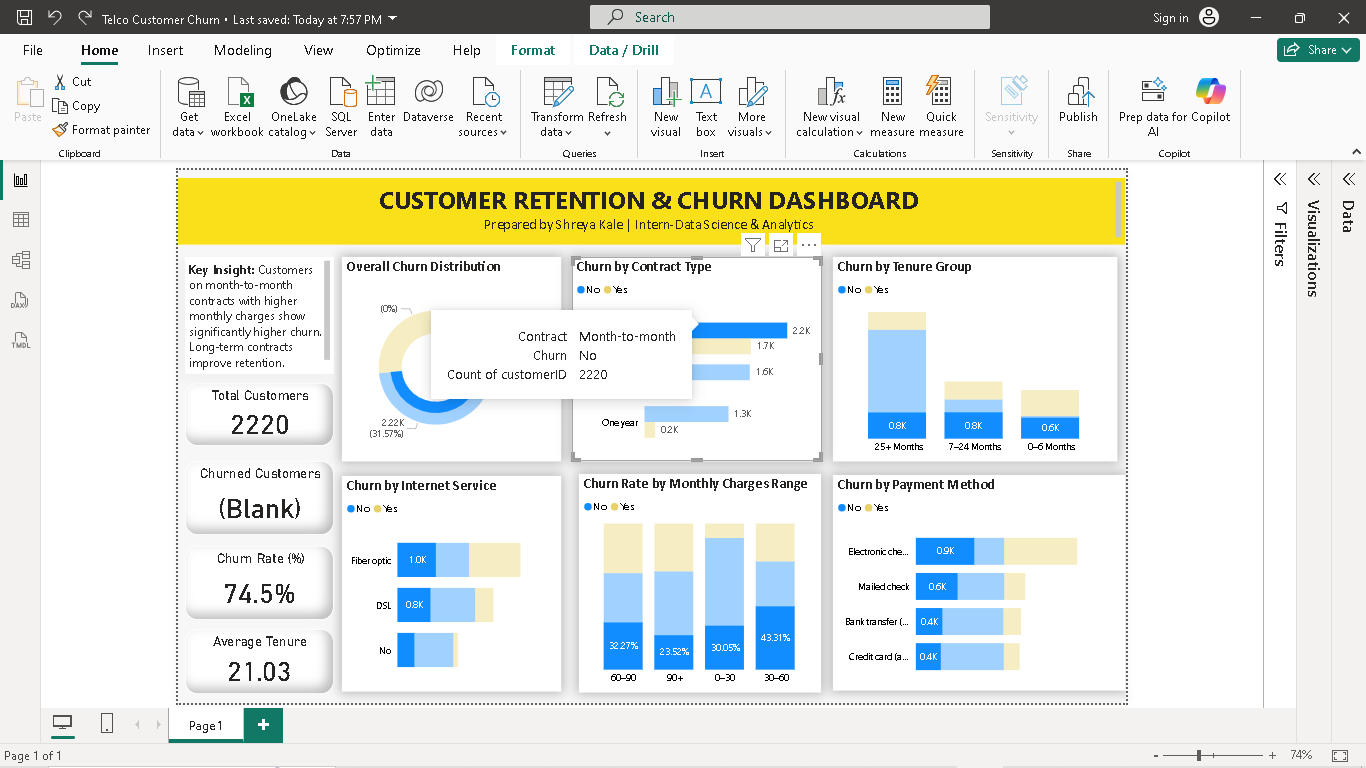

This screenshot's page, from the dashboard's own definition file:
{"tool":"powerbi","page":{"name":"Page 1","canvas":[1280,720],"ordinal":0},"visuals":[{"type":"textbox","box":[0,11.4,1280,90],"z":0},{"type":"card","title":"Total Customers","fields":{"Values":["CountNonNull(Telco-Customer-Churn.customerID)"]},"box":[9.5,287.8,201.4,85.1],"z":1000},{"type":"card","title":"Churned Customers","fields":{"Values":["CountNonNull(Telco-Customer-Churn.customerID)"]},"box":[9.5,393.2,201.4,100],"z":2000},{"type":"card","title":"Average Tenure","fields":{"Values":["Avg(Telco-Customer-Churn.tenure)"]},"box":[9.5,620.3,201.4,87.8],"z":3000},{"type":"donutChart","title":"Overall Churn Distribution","fields":{"Category":["Telco-Customer-Churn.Churn"],"Y":["CountNonNull(Telco-Customer-Churn.customerID)"]},"box":[221.4,117.1,295.7,275.7],"z":4000},{"type":"barChart","title":"Churn by Internet Service","fields":{"Category":["Telco-Customer-Churn.InternetService"],"Y":["CountNonNull(Telco-Customer-Churn.customerID)"],"Series":["Telco-Customer-Churn.Churn"]},"box":[221.4,412.9,295.7,291.4],"z":5000},{"type":"clusteredBarChart","title":"Churn by Contract Type","fields":{"Category":["Telco-Customer-Churn.Contract"],"Y":["CountNonNull(Telco-Customer-Churn.customerID)"],"Series":["Telco-Customer-Churn.Churn"]},"box":[532.9,117.1,337.1,275.7],"z":6000},{"type":"barChart","title":"Churn by Payment Method","fields":{"Category":["Telco-Customer-Churn.PaymentMethod"],"Y":["CountNonNull(Telco-Customer-Churn.customerID)"],"Series":["Telco-Customer-Churn.Churn"]},"box":[885.1,412.2,394.6,290.5],"z":7000},{"type":"columnChart","title":"Churn by Tenure Group","fields":{"Category":["Telco-Customer-Churn.Tenure Group"],"Y":["CountNonNull(Telco-Customer-Churn.customerID)"],"Series":["Telco-Customer-Churn.Churn"]},"box":[885.7,117.1,384.3,275.7],"z":8000},{"type":"card","title":"Churn Rate (%)","fields":{"Values":["Telco-Customer-Churn.Churn Rate %"]},"box":[9.5,508.1,201.4,100],"z":9000},{"type":"hundredPercentStackedColumnChart","title":"Churn Rate by Monthly Charges Range","fields":{"Y":["CountNonNull(Telco-Customer-Churn.customerID)"],"Series":["Telco-Customer-Churn.Churn"],"Category":["Telco-Customer-Churn.MonthlyCharges Group"]},"box":[541.9,410.8,327,294.6],"z":10000},{"type":"textbox","box":[9.5,117.6,201.4,158.1],"z":11000}]}

Visuals, with their boxes on the page's 1280x720 design canvas (x1, y1, x2, y2). These are canvas units, not pixel positions in the 1366x768 screenshot, which may show the page scaled, cropped or inside an application window:
textbox: select_region(0, 11, 1280, 101)
"Total Customers" card: select_region(10, 288, 211, 373)
"Churned Customers" card: select_region(10, 393, 211, 493)
"Average Tenure" card: select_region(10, 620, 211, 708)
"Overall Churn Distribution" donutChart: select_region(221, 117, 517, 393)
"Churn by Internet Service" barChart: select_region(221, 413, 517, 704)
"Churn by Contract Type" clusteredBarChart: select_region(533, 117, 870, 393)
"Churn by Payment Method" barChart: select_region(885, 412, 1280, 703)
"Churn by Tenure Group" columnChart: select_region(886, 117, 1270, 393)
"Churn Rate (%)" card: select_region(10, 508, 211, 608)
"Churn Rate by Monthly Charges Range" hundredPercentStackedColumnChart: select_region(542, 411, 869, 705)
textbox: select_region(10, 118, 211, 276)
